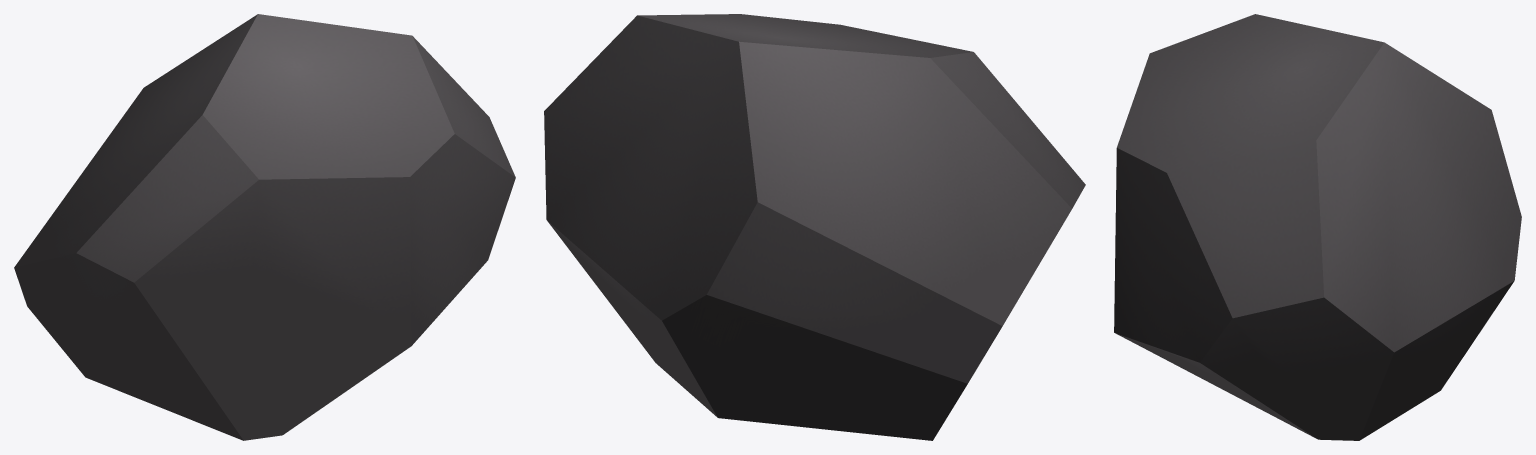
File: MidSize_RockDark.fbx
3 views of the same model, side by side, from view 1: azimuth 30°, elevation 25°; view 2: azimuth 150°, elevation 25°; view 3: azimuth 270°, elevation 25° (orthographic). The views are drawn at different scales.
Visible parts, largest first — view 1: MidSize_RockDark; view 2: MidSize_RockDark; view 3: MidSize_RockDark.
Part boxes in pixels (x1,y1,x2,y2): MidSize_RockDark: (14, 14, 515, 440); MidSize_RockDark: (544, 14, 1085, 440); MidSize_RockDark: (1114, 14, 1521, 440).
Size of the model in its own units: 2.96 by 2.03 by 2.13.
1 material, 1 textured.
